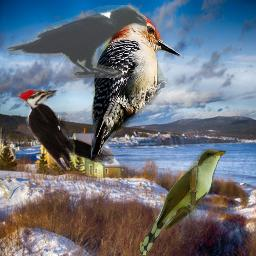Crow: (5, 5, 147, 78)
Cuckoo: (140, 149, 226, 255)
Woodpecker: (91, 14, 185, 161), (16, 89, 114, 174)
